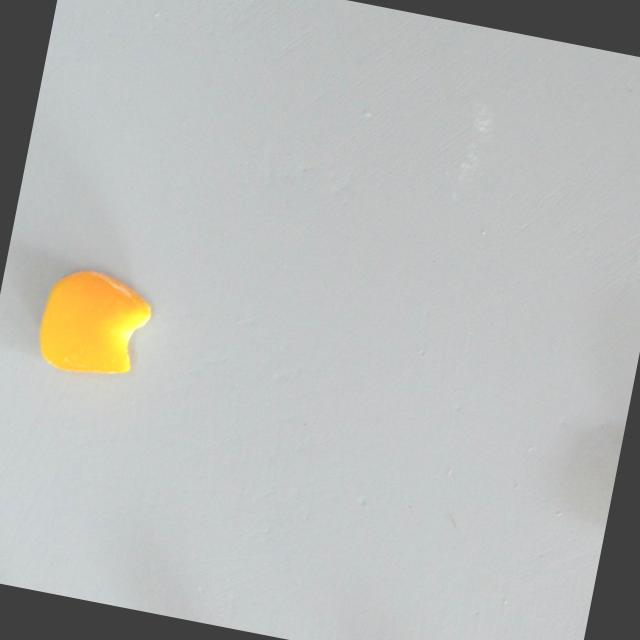pelicula: (31, 262, 155, 383)
